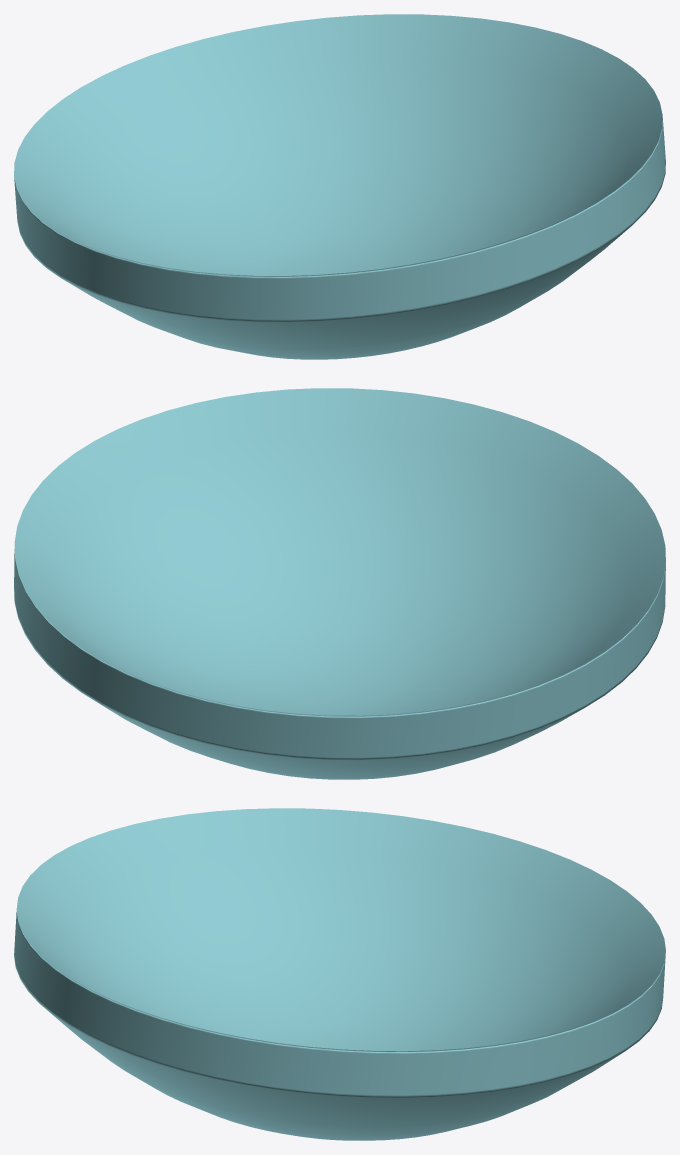
3 renders of one model, top to bottom at view 1: azimuth 30°, elevation 25°; view 2: azimuth 150°, elevation 25°; view 3: azimuth 270°, elevation 25°, orthographic.
Visible parts, largest first — view 1: 左侧角膜; view 2: 左侧角膜; view 3: 左侧角膜.
Boxes of the visible parts, x1,y1,x2,y2 form: 左侧角膜: [14, 14, 665, 359]; 左侧角膜: [14, 388, 665, 779]; 左侧角膜: [14, 808, 665, 1140].
Size of the model in its own units: 0.0209 by 0.0073 by 0.0209.
